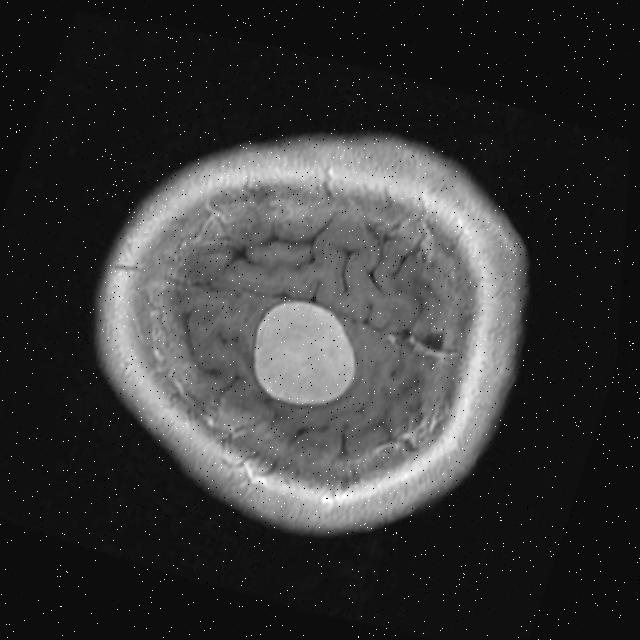Meningioma: (237, 291, 374, 415)
